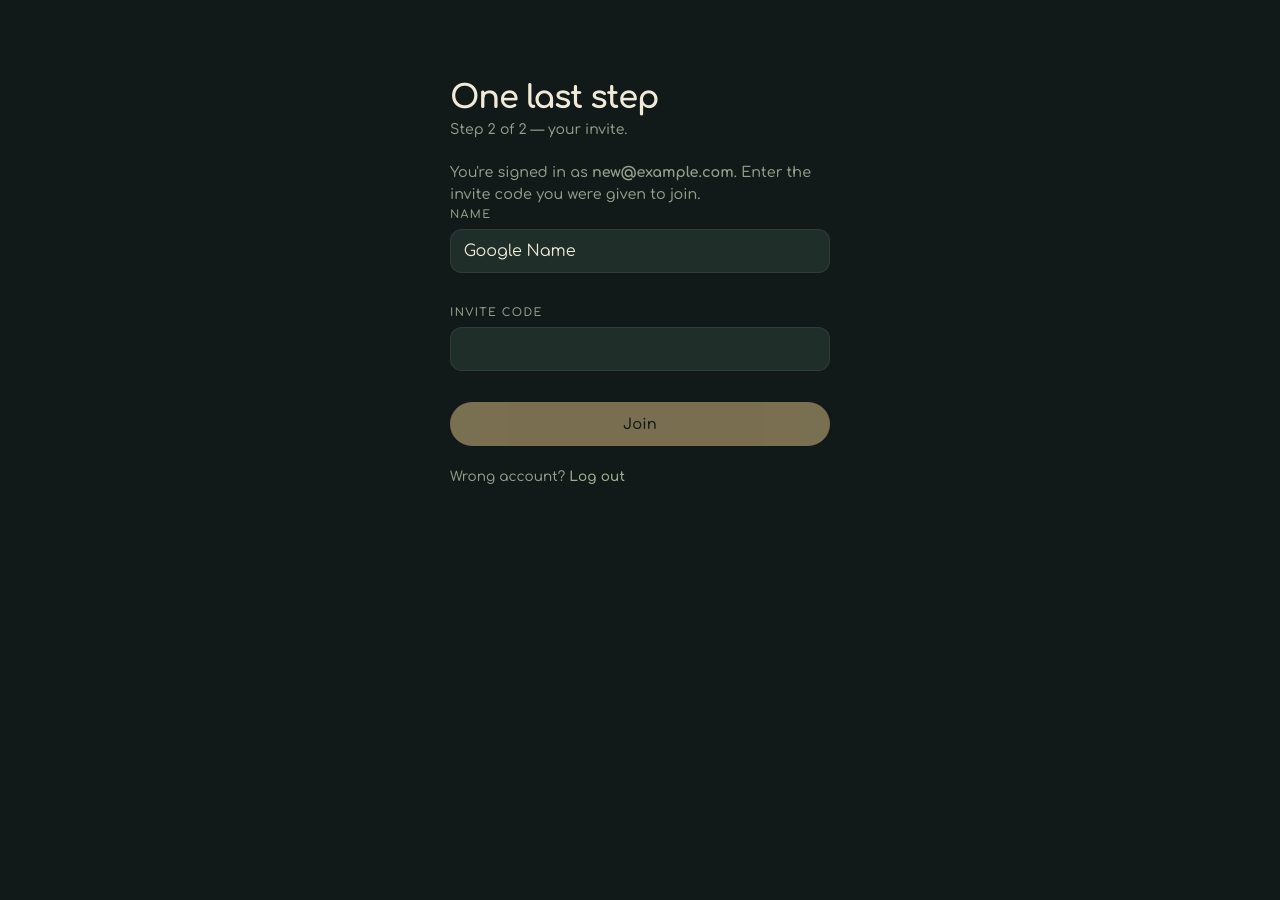
Test: FinishJoin › falls back to the Google profile name and says when a code isn't valid
The image size is (1280, 900).
Check: the field labelled "Name" holds "Google Name", box [450, 229, 830, 273]
In the field labelled "Invite code": (640, 349) [450, 327, 830, 371], type "guess"
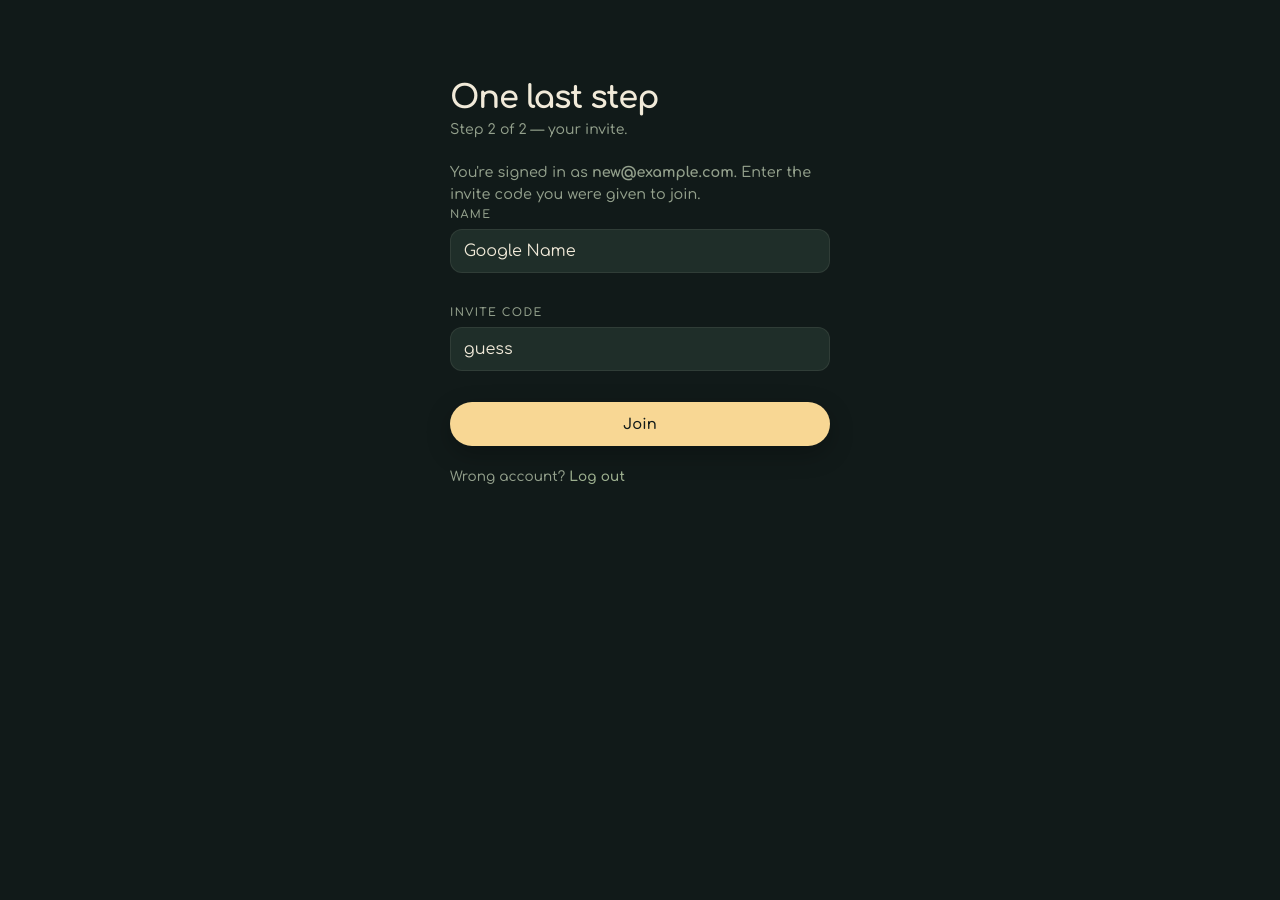
Click the button "Join": (640, 424) [450, 402, 830, 446]
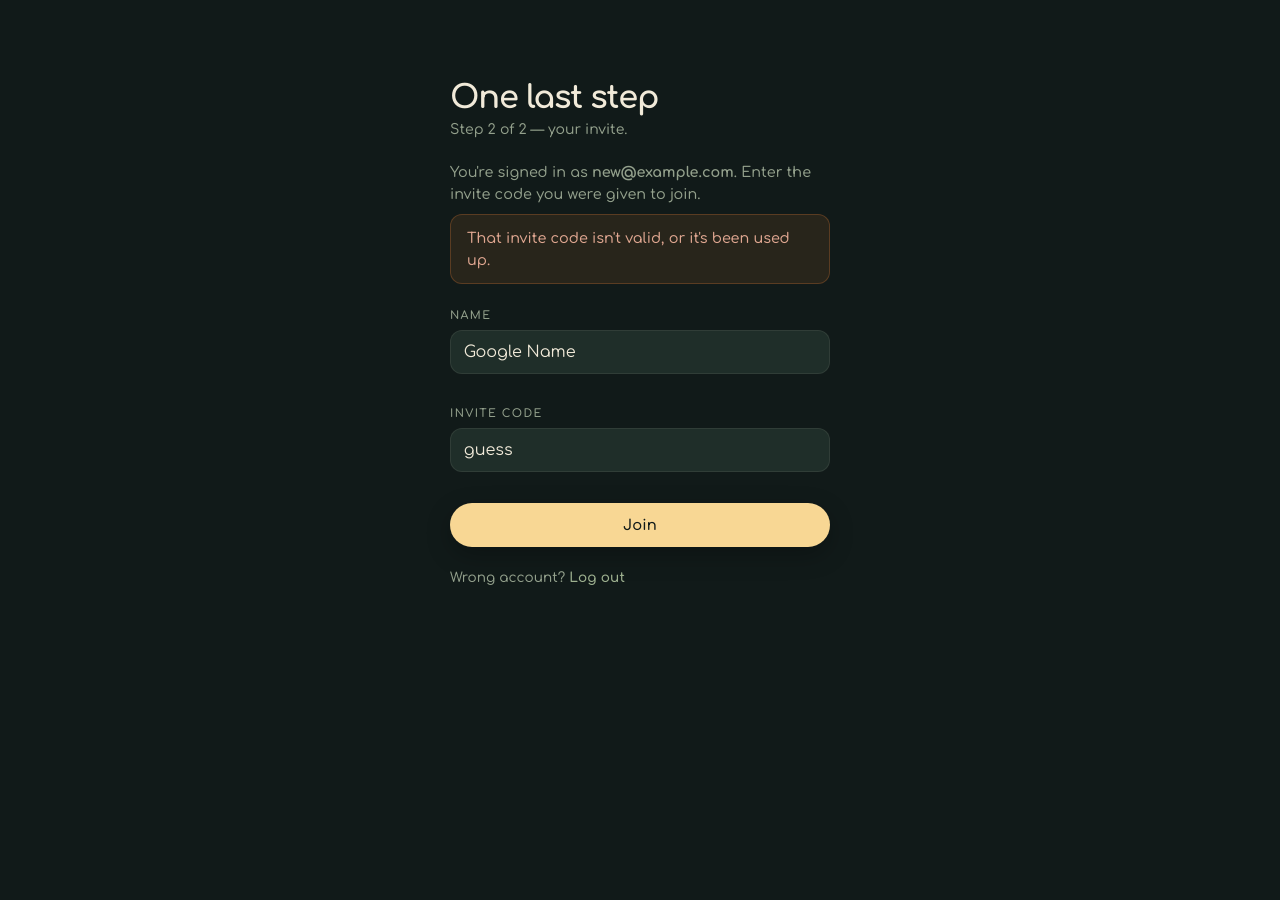
Check: the text "That invite code isn't valid, or it's been used up." is shown, box [450, 214, 830, 284]
